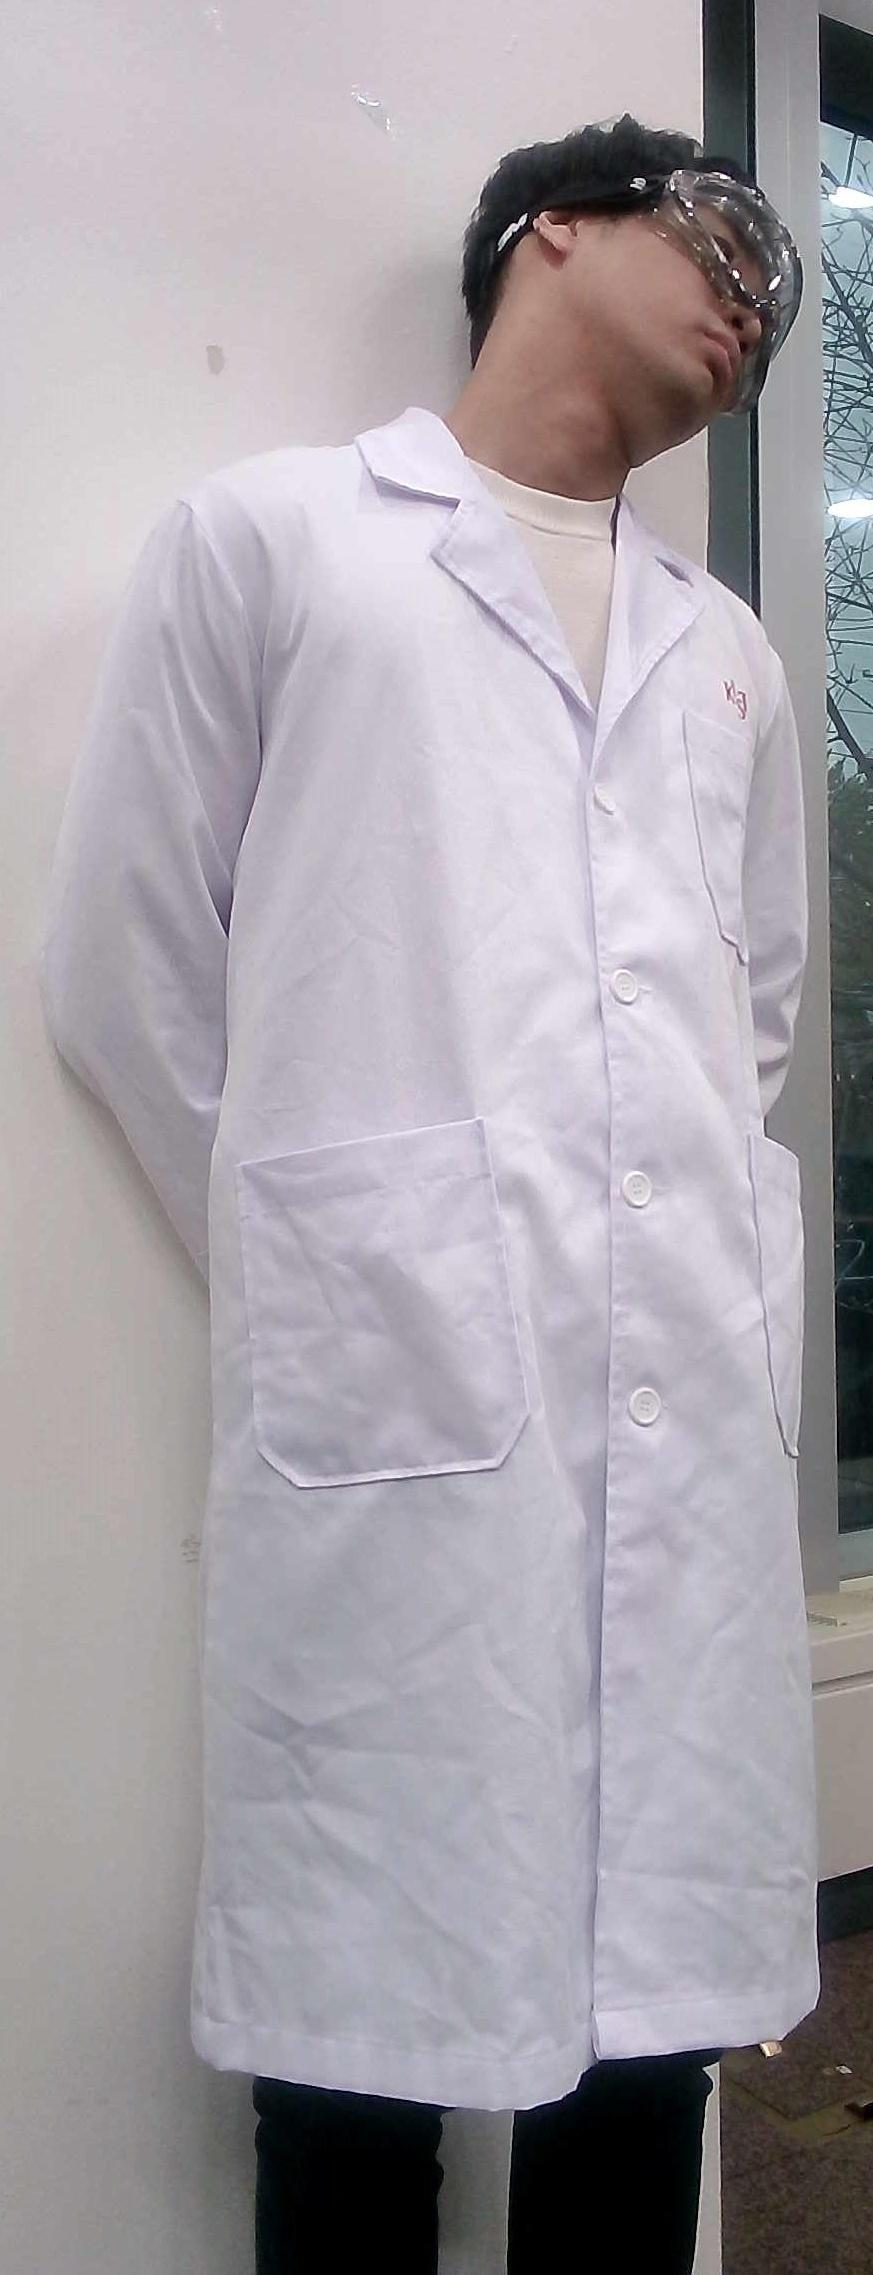lab_coat: (206, 606, 782, 2031)
